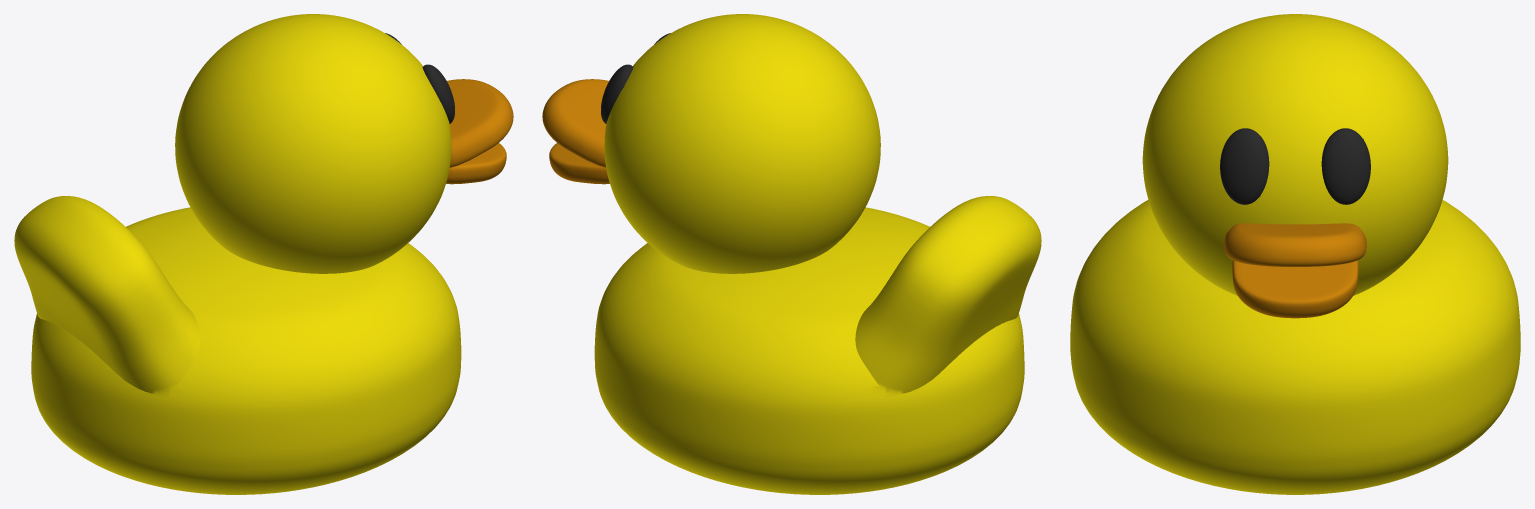
File: DuckRegular.fbx
3 renders of one model, left to right at view 1: azimuth 30°, elevation 25°; view 2: azimuth 150°, elevation 25°; view 3: azimuth 270°, elevation 25°, orthographic. The views are drawn at different scales.
Visible parts, largest first — view 1: polySurface12; view 2: polySurface12; view 3: polySurface12.
Part boxes in pixels (left/top/right/bottom): polySurface12: left=14, top=14, right=513, bottom=494; polySurface12: left=542, top=14, right=1041, bottom=494; polySurface12: left=1070, top=14, right=1520, bottom=494.
Bounding box in the file's own units: 3.78 × 3.16 × 2.89.
